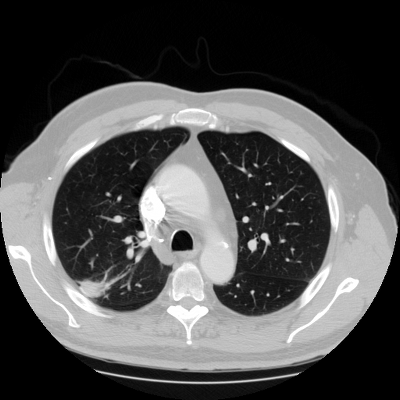nodule: (82, 278, 102, 298)
